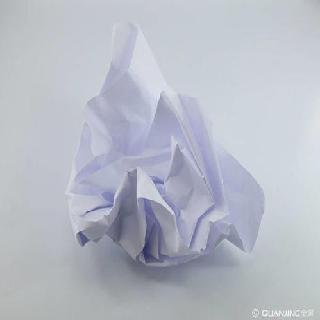8/可回收垃圾/纸: (65, 19, 266, 272)
